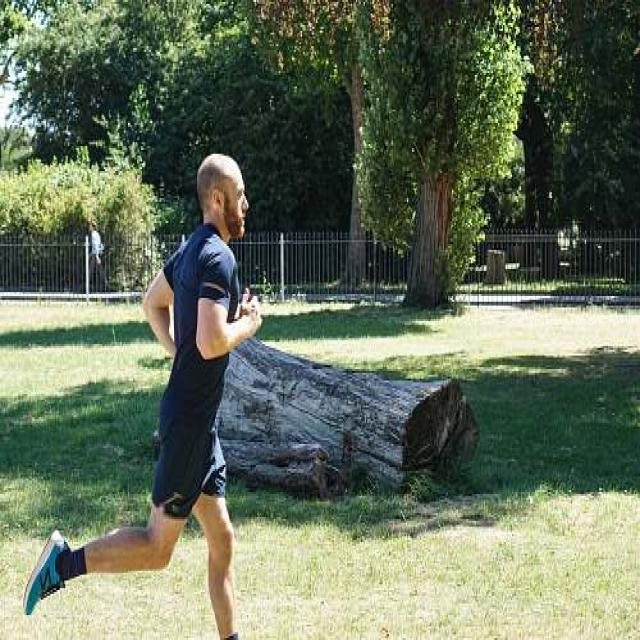running: (21, 151, 263, 640)
